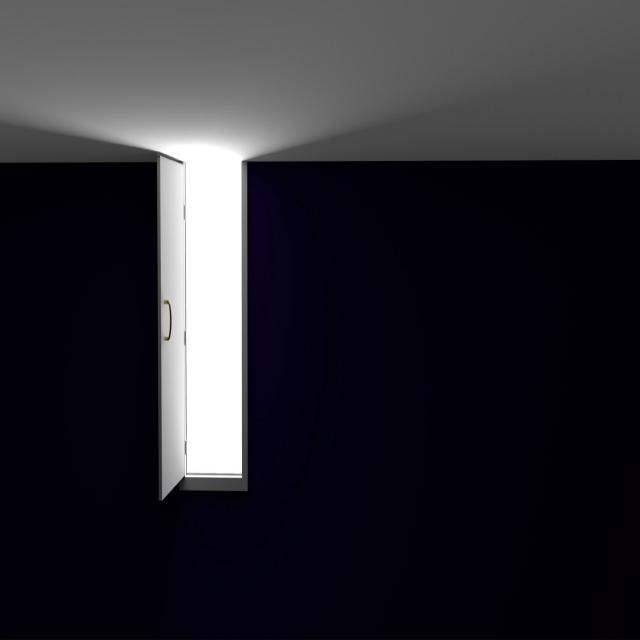open: (158, 152, 245, 488)
